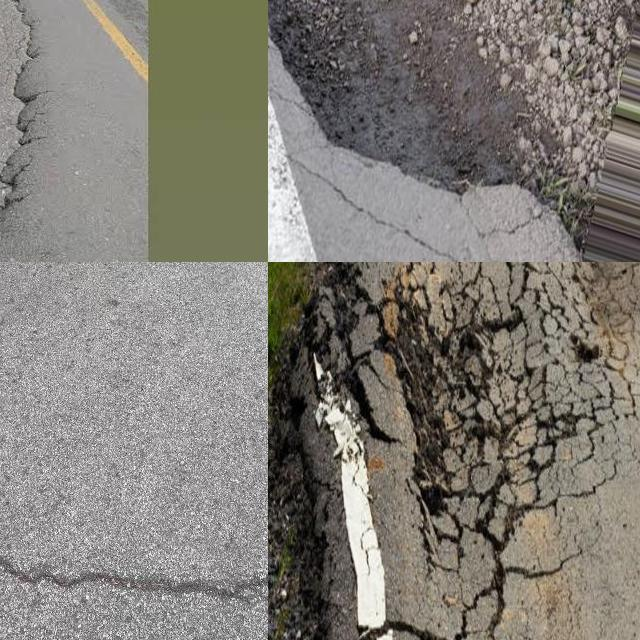Melintang: (0, 550, 268, 605)
Pinggir: (268, 262, 567, 640), (268, 0, 576, 210)
Retak Buaya: (530, 262, 640, 529)
